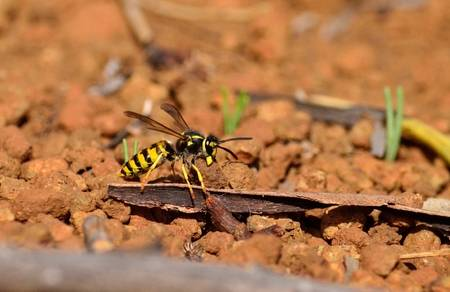chax: (107, 99, 257, 212)
